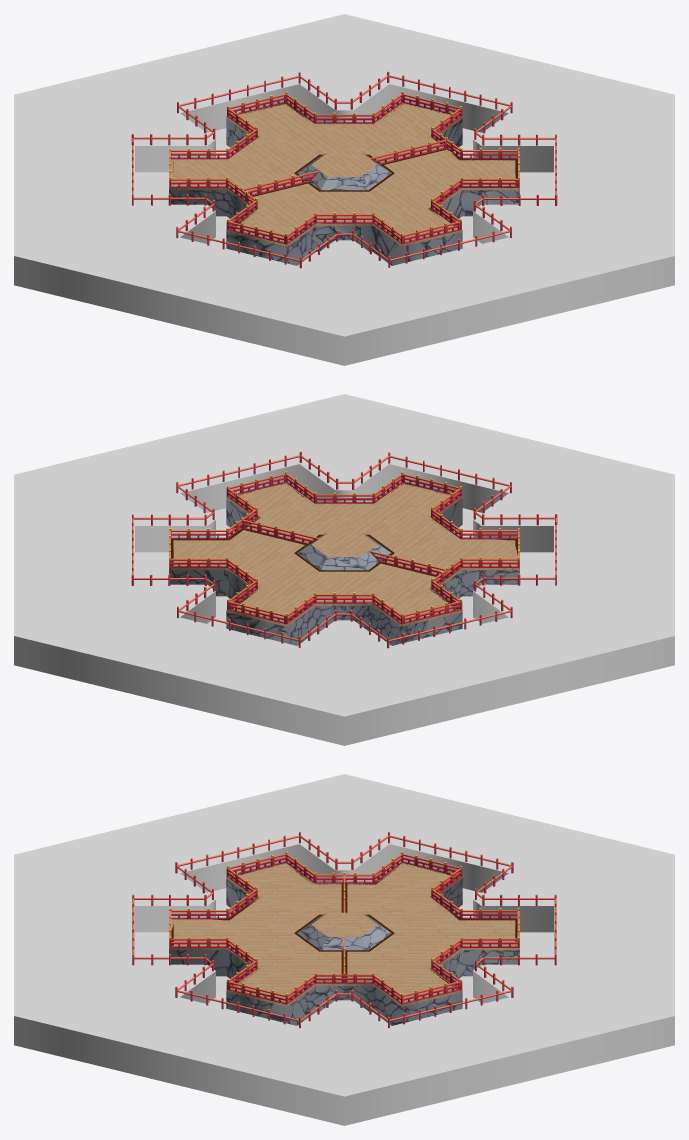
File: Battle_Stage 1.fbx
3 renders of one model, top to bottom at view 1: azimuth 30°, elevation 25°; view 2: azimuth 150°, elevation 25°; view 3: azimuth 270°, elevation 25°, orthographic.
Visible parts, largest first — view 1: Cylinder_062.001, Cylinder_062, Cube.082, Cube.079, Cylinder_064, Cylinder_062.002; view 2: Cylinder_062.001, Cylinder_062, Cube.082, Cube.079, Cylinder_064, Cylinder_062.002; view 3: Cylinder_062.001, Cylinder_062, Cube.082, Cube.079, Cylinder_064, Cylinder_062.002.
Part boxes in pixels (x1=…): Cylinder_062.001: x1=14, y1=14, x2=674, y2=365; Cylinder_062: x1=169, y1=103, x2=519, y2=265; Cube.082: x1=169, y1=91, x2=519, y2=244; Cube.079: x1=131, y1=71, x2=557, y2=268; Cylinder_064: x1=298, y1=152, x2=390, y2=190; Cylinder_062.002: x1=173, y1=103, x2=517, y2=241; Cylinder_062.001: x1=14, y1=394, x2=674, y2=745; Cylinder_062: x1=169, y1=482, x2=519, y2=645; Cube.082: x1=169, y1=471, x2=519, y2=624; Cube.079: x1=131, y1=451, x2=557, y2=648; Cylinder_064: x1=298, y1=532, x2=390, y2=570; Cylinder_062.002: x1=171, y1=483, x2=517, y2=621; Cylinder_062.001: x1=14, y1=774, x2=674, y2=1125; Cylinder_062: x1=169, y1=863, x2=519, y2=1025; Cube.082: x1=169, y1=851, x2=519, y2=1004; Cube.079: x1=132, y1=831, x2=556, y2=1027; Cylinder_064: x1=298, y1=912, x2=390, y2=950; Cylinder_062.002: x1=171, y1=863, x2=517, y2=1001.
Size of the model in its own units: 21990 by 1327 by 19044.
